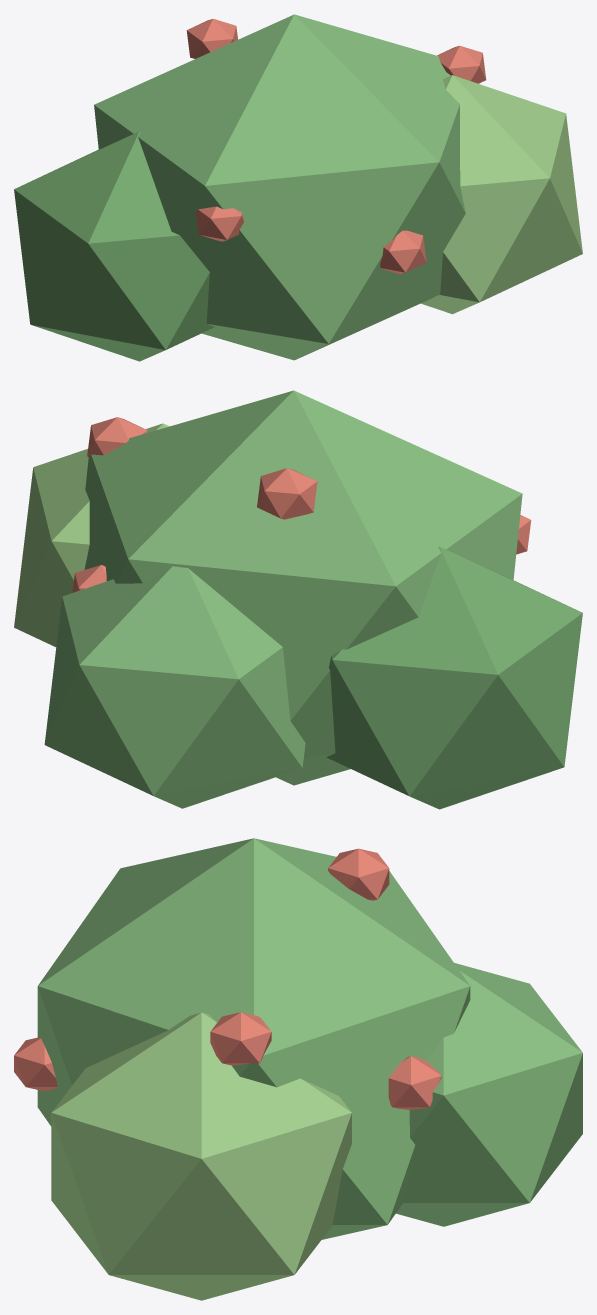
The model's file is berry_bush.glb.
The picture shows the model from 3 angles, top to bottom: view 1: azimuth 30°, elevation 25°; view 2: azimuth 150°, elevation 25°; view 3: azimuth 270°, elevation 25°; orthographic projection. The views are drawn at different scales.
Visible parts, largest first — view 1: core, left, right, berry_2, berry_4, berry_0, berry_3; view 2: core, back, left, right, berry_4, berry_3, berry_1; view 3: core, right, back, berry_3, berry_4, berry_1, berry_2.
Part boxes in pixels (x1,y1,x2,y2): core: [94, 14, 465, 360]; left: [14, 131, 214, 361]; right: [421, 75, 582, 314]; berry_2: [380, 230, 426, 274]; berry_4: [186, 18, 237, 58]; berry_0: [195, 206, 244, 241]; berry_3: [437, 45, 486, 83]; core: [84, 390, 522, 785]; back: [44, 566, 305, 808]; left: [326, 546, 582, 809]; right: [14, 423, 169, 646]; berry_4: [257, 468, 317, 519]; berry_3: [87, 417, 147, 457]; berry_1: [72, 565, 106, 592]; core: [37, 838, 470, 1239]; right: [51, 1012, 351, 1300]; back: [396, 963, 582, 1226]; berry_3: [210, 1012, 271, 1065]; berry_4: [328, 848, 389, 900]; berry_1: [388, 1056, 441, 1109]; berry_2: [14, 1037, 57, 1091].
Size of the model in its own units: 1.06 by 0.703 by 0.8694.
